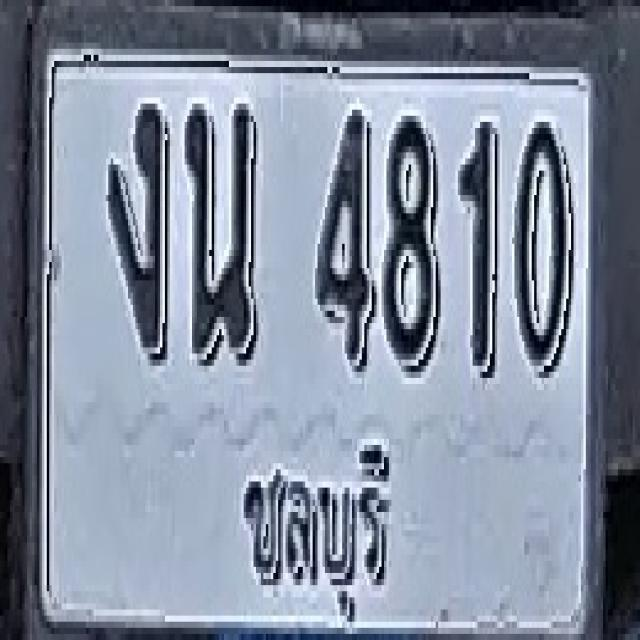0: (515, 116, 571, 372)
1: (458, 119, 497, 375)
4: (316, 106, 373, 368)
8: (383, 113, 439, 369)
A07: (109, 98, 168, 360)
A25: (185, 98, 256, 360)
CBI: (232, 413, 400, 627)
